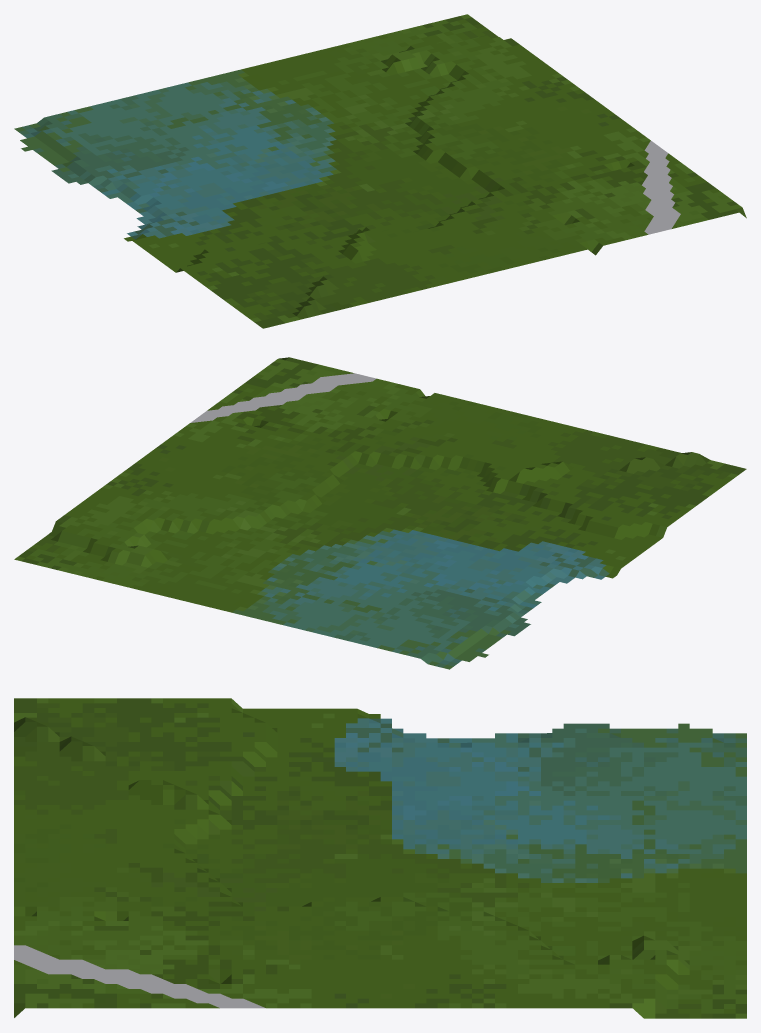
The model's file is Chunk 11.glb.
3 views of the same model, one above another, from view 1: azimuth 30°, elevation 25°; view 2: azimuth 150°, elevation 25°; view 3: azimuth 270°, elevation 25° (orthographic). The views are drawn at different scales.
Parts seen in each view (by area): view 1: Chunk 11; view 2: Chunk 11; view 3: Chunk 11.
Boxes of the visible parts, x1,y1,x2,y2 form: Chunk 11: (14, 14, 746, 328); Chunk 11: (14, 357, 746, 669); Chunk 11: (14, 698, 746, 1018).
Bounding box in the file's own units: 64 × 2.5 × 64.
Materials: 3 (2 with a texture image).
